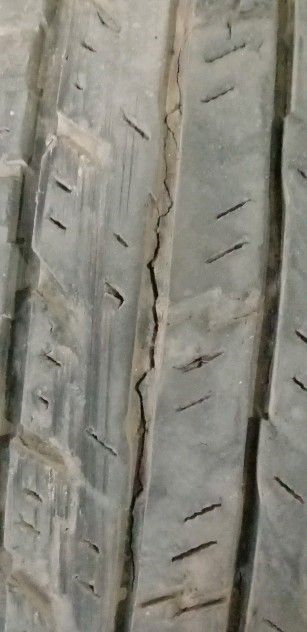tr: (112, 35, 189, 631)
